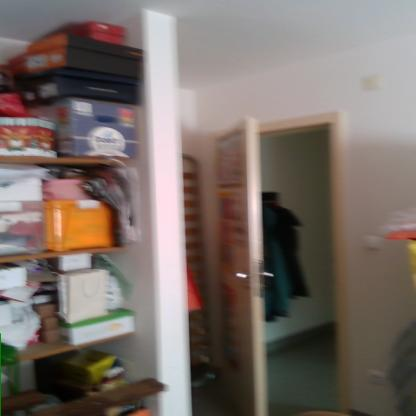semi: (204, 110, 372, 415)
